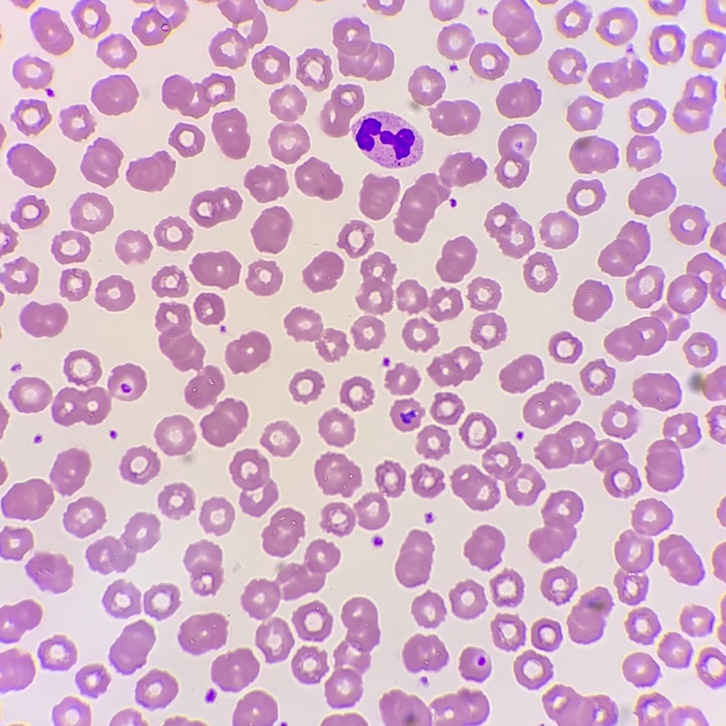RBC: (395, 153, 486, 241), (241, 540, 339, 618), (537, 422, 639, 496), (156, 303, 223, 408), (452, 442, 544, 510), (325, 597, 379, 705), (52, 364, 145, 425), (615, 499, 669, 603), (86, 513, 158, 572), (605, 309, 686, 360), (647, 414, 698, 491), (353, 112, 422, 167), (529, 490, 582, 561), (210, 0, 266, 67), (333, 18, 393, 79), (667, 254, 725, 314), (356, 461, 405, 529), (285, 308, 346, 360), (230, 449, 277, 515), (162, 74, 234, 116), (543, 685, 617, 725), (599, 222, 649, 276), (397, 280, 462, 320), (493, 0, 540, 54), (486, 204, 533, 257), (523, 382, 577, 427), (568, 587, 611, 642), (497, 124, 535, 186), (358, 253, 395, 313), (201, 398, 247, 446), (110, 621, 154, 671), (321, 85, 363, 136), (395, 530, 432, 586), (589, 60, 644, 97), (674, 78, 712, 131), (659, 535, 700, 584), (190, 187, 241, 226), (429, 346, 480, 385), (1, 479, 52, 518), (8, 143, 54, 186), (315, 453, 361, 496), (185, 541, 222, 594), (30, 8, 72, 54), (263, 508, 304, 555), (211, 648, 258, 689), (434, 690, 488, 725), (81, 138, 121, 185), (179, 613, 226, 653), (628, 174, 673, 215), (295, 159, 341, 199), (126, 152, 174, 190), (27, 552, 72, 592), (380, 690, 431, 725), (212, 110, 249, 158), (464, 525, 504, 569), (252, 207, 291, 252), (225, 332, 270, 371), (51, 449, 90, 494), (92, 75, 136, 114), (437, 237, 475, 282), (570, 136, 616, 173), (0, 600, 41, 641), (360, 176, 399, 219), (430, 100, 479, 134), (192, 252, 239, 287), (633, 373, 678, 409), (71, 193, 113, 231), (497, 80, 540, 117), (303, 252, 343, 291), (64, 497, 104, 536), (20, 303, 67, 336), (500, 355, 543, 391), (256, 619, 292, 661), (244, 166, 287, 201), (403, 635, 446, 670), (233, 691, 277, 725), (270, 124, 308, 163), (156, 415, 194, 454), (574, 280, 611, 320), (626, 266, 662, 307), (136, 670, 177, 706), (293, 602, 331, 640), (408, 66, 444, 105), (297, 49, 331, 90), (10, 377, 51, 411), (121, 447, 159, 483), (670, 205, 705, 244), (252, 47, 289, 83), (0, 649, 34, 688), (73, 0, 109, 36), (541, 212, 577, 248), (104, 580, 140, 616), (514, 651, 550, 687), (470, 43, 507, 78), (96, 275, 133, 310), (450, 581, 485, 618), (133, 10, 171, 44), (0, 258, 38, 292), (541, 567, 576, 603), (602, 402, 637, 437), (460, 413, 495, 448), (262, 421, 298, 455), (158, 483, 194, 517), (567, 181, 604, 214), (524, 253, 556, 291), (13, 57, 52, 88), (438, 24, 472, 59), (471, 313, 505, 348), (580, 359, 614, 394), (319, 410, 353, 445), (200, 498, 234, 533), (339, 221, 372, 257), (64, 350, 100, 383), (689, 366, 725, 399), (98, 35, 135, 67), (11, 196, 48, 228), (155, 217, 192, 249), (52, 231, 89, 263), (548, 49, 582, 83), (247, 261, 281, 295), (144, 584, 178, 618), (292, 647, 326, 681), (598, 11, 633, 44), (270, 87, 305, 120), (491, 614, 524, 649), (40, 635, 76, 667), (567, 97, 601, 130), (15, 100, 49, 133), (491, 570, 523, 605), (61, 105, 93, 139), (412, 592, 444, 626), (152, 266, 187, 297), (170, 124, 203, 156), (340, 377, 373, 409), (692, 33, 723, 67), (626, 608, 657, 642), (627, 136, 659, 168), (322, 502, 354, 534), (650, 29, 681, 62), (636, 694, 669, 725), (403, 319, 437, 349), (557, 5, 588, 37), (630, 101, 661, 133), (468, 278, 499, 310), (353, 316, 384, 348), (418, 426, 449, 458), (659, 632, 689, 665), (623, 653, 656, 683), (116, 231, 150, 260), (431, 393, 462, 424), (391, 399, 422, 430), (549, 332, 581, 362), (386, 364, 418, 394), (412, 465, 442, 497), (0, 528, 32, 558), (684, 333, 713, 366), (290, 371, 323, 400), (60, 269, 90, 300), (194, 293, 224, 324), (460, 648, 488, 680), (531, 619, 560, 649), (78, 664, 108, 693), (680, 606, 710, 633), (430, 0, 463, 20), (160, 0, 186, 20), (323, 714, 365, 725), (713, 544, 725, 579), (711, 224, 725, 253), (714, 130, 725, 164), (266, 0, 295, 10), (55, 699, 71, 715), (665, 0, 681, 14), (110, 712, 127, 725), (165, 717, 188, 725), (718, 501, 725, 524), (0, 408, 7, 429), (688, 708, 700, 719), (78, 715, 90, 725), (13, 0, 30, 7), (718, 625, 725, 642), (0, 462, 6, 481), (392, 0, 403, 10), (368, 0, 379, 8), (668, 714, 676, 725), (706, 0, 718, 7), (621, 708, 629, 717), (652, 1, 660, 9), (0, 245, 7, 254), (720, 15, 725, 26), (721, 602, 725, 615), (720, 299, 725, 307), (136, 721, 145, 725), (0, 130, 4, 138), (721, 406, 725, 414)
